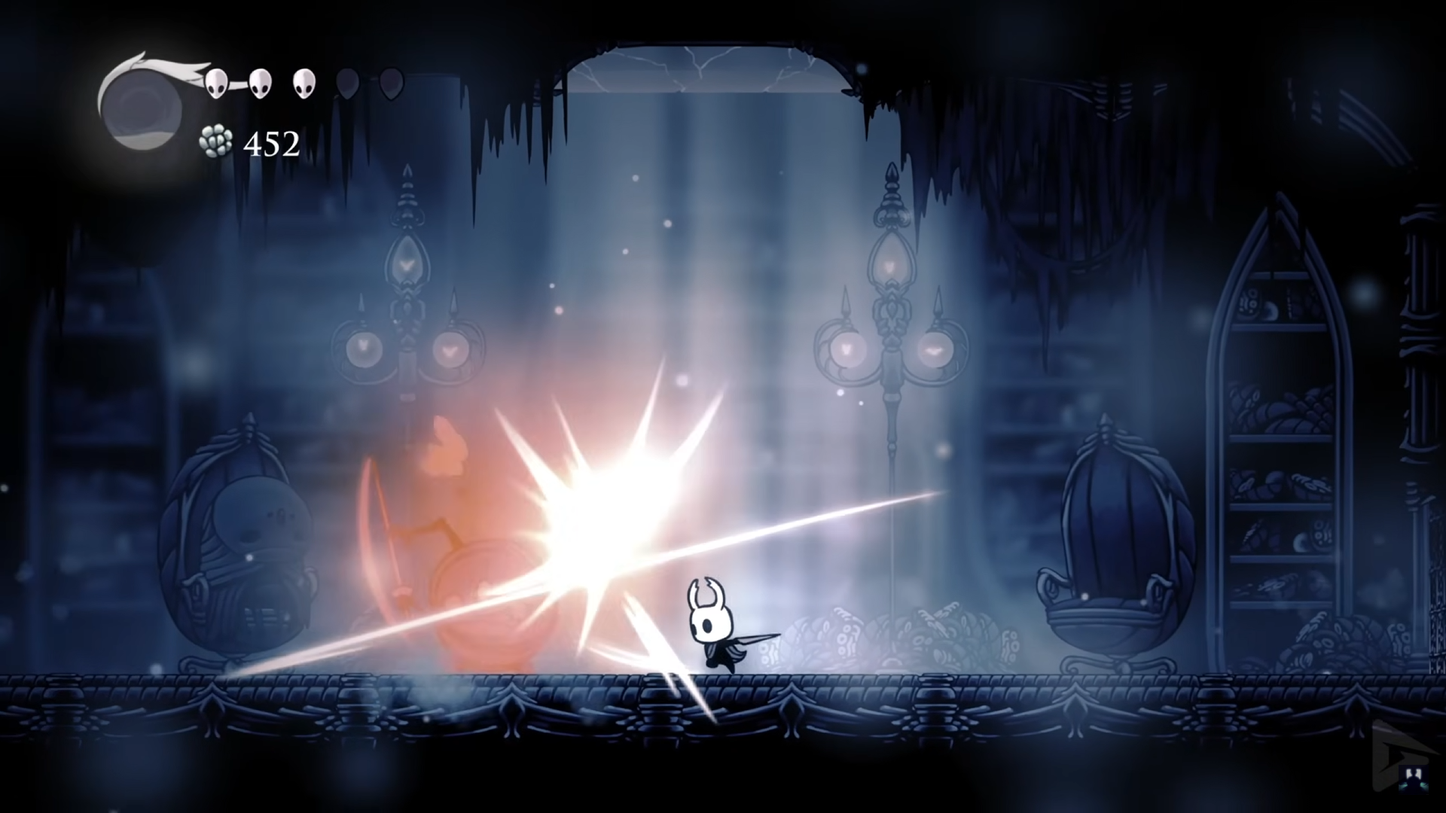HK: (683, 574, 746, 675)
